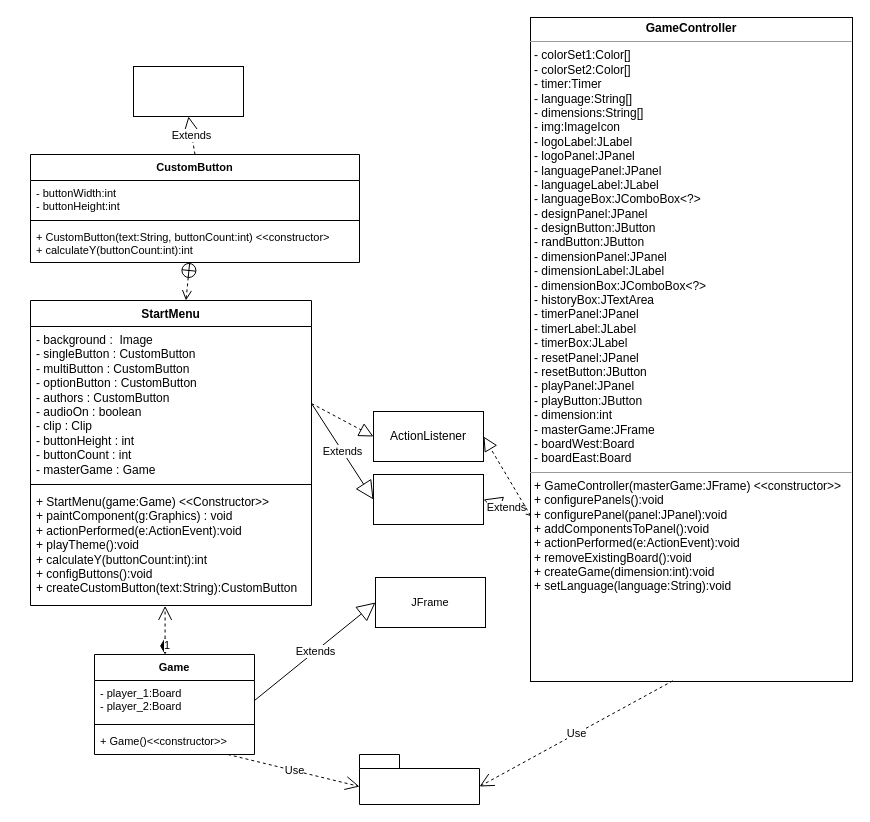
Image size: 870x822. Some labels were removed from this diagram. Here are the shapes that lost their labels. From the top down, the box of each, then its label:
(132, 66, 244, 116): JButton
(372, 474, 484, 524): JPanel
(358, 754, 480, 804): component.Board
